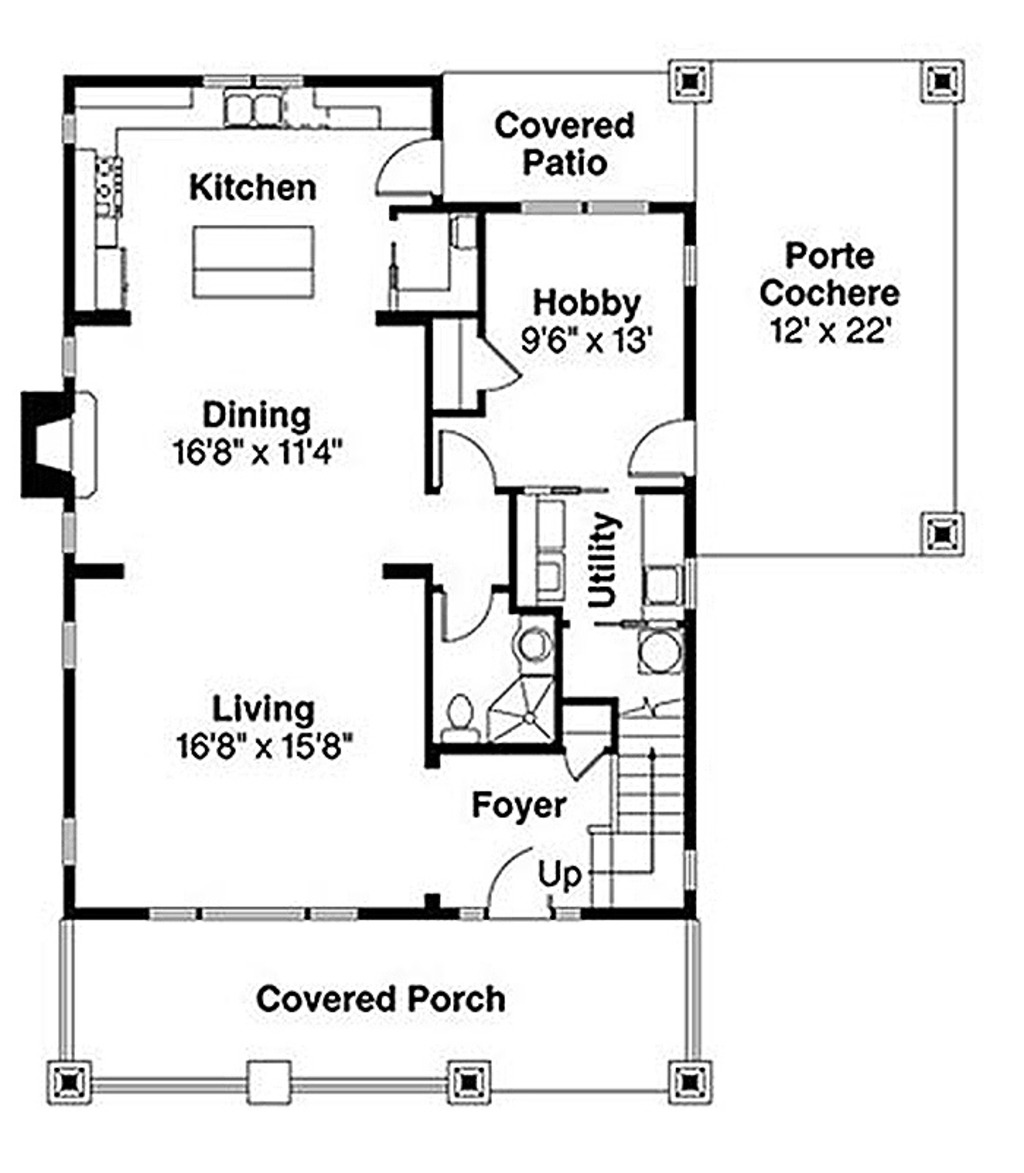door: (615, 419, 695, 492), (365, 132, 447, 199), (482, 850, 551, 919), (433, 423, 493, 490), (469, 327, 522, 396), (449, 585, 493, 650), (560, 738, 616, 787)
kitchen_bar: (182, 210, 345, 327)
large_sink: (429, 689, 484, 752)
small_sink: (511, 625, 560, 681)
stairs: (591, 690, 702, 918)
twin_sink: (216, 74, 287, 136)
window: (198, 898, 309, 925), (585, 194, 656, 227), (304, 899, 369, 932), (58, 616, 89, 678), (524, 189, 587, 218), (145, 898, 202, 927), (58, 812, 84, 874)
